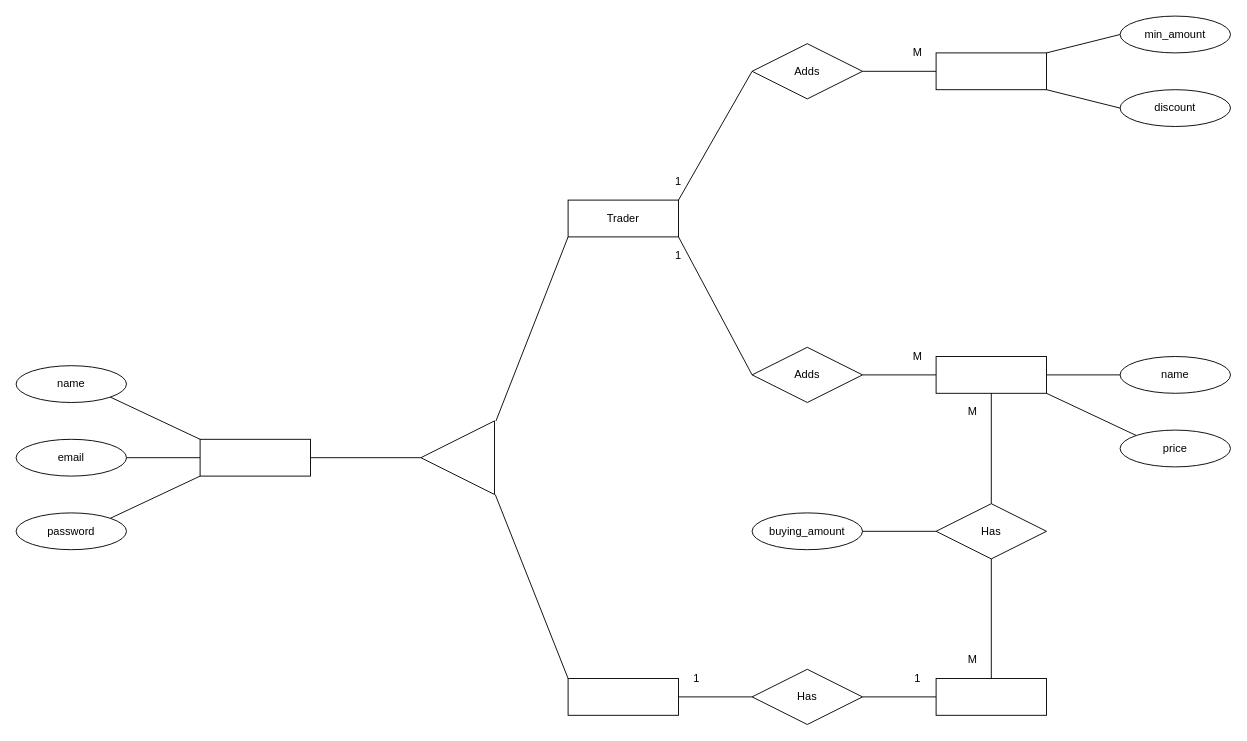
This 1247x741 diagram has some shape labels left out. Here are the shapes that lost their labels. From the top down, the box of each, then its label:
(935, 52, 1046, 90): Promotion
(935, 356, 1046, 393): Item
(199, 438, 310, 476): User
(420, 420, 494, 494): ISA
(567, 678, 678, 715): Customer
(935, 678, 1046, 715): Cart
